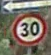limite 30: (10, 12, 46, 45)
